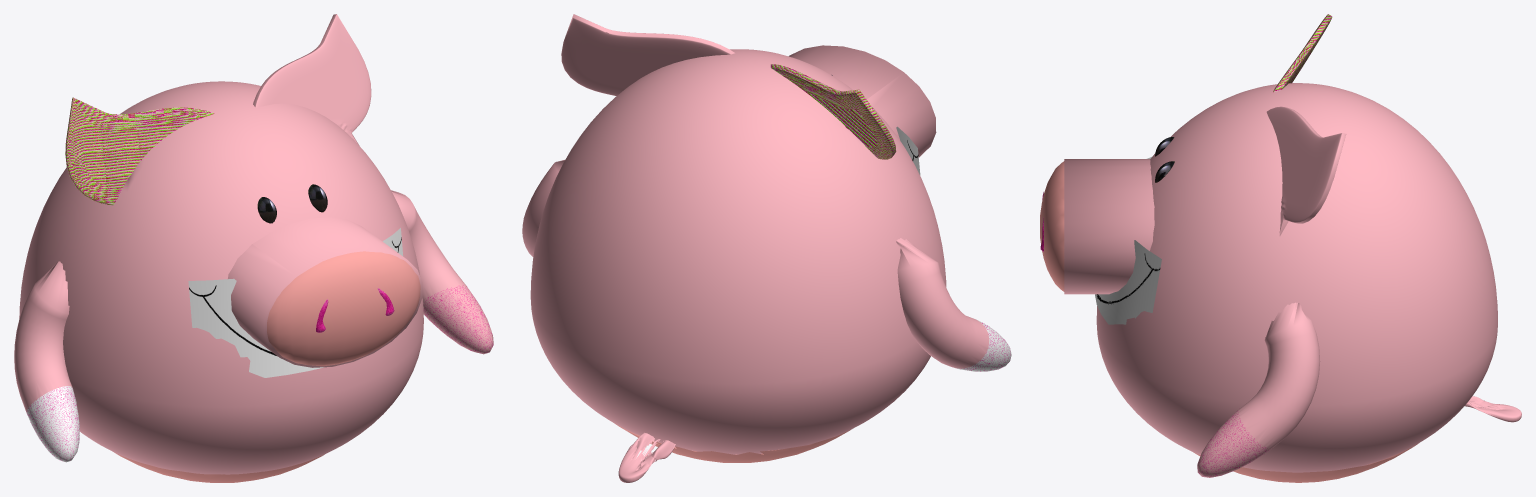
Rendered from pinkpig.dae.
3 renders of one model, left to right at view 1: azimuth 30°, elevation 25°; view 2: azimuth 150°, elevation 25°; view 3: azimuth 270°, elevation 25°, orthographic. The views are drawn at different scales.
Parts seen in each view (by area): view 1: SketchUp (×10), group_0; view 2: SketchUp (×8), group_0 (×2); view 3: SketchUp (×9), group_0.
Boxes of the visible parts, <box> form: SketchUp (×10): <box>14,81,493,482</box>; group_0: <box>253,14,371,145</box>; SketchUp (×8): <box>522,45,1011,482</box>; group_0 (×2): <box>561,14,734,95</box>; SketchUp (×9): <box>1040,14,1521,482</box>; group_0: <box>1266,106,1346,235</box>.
Size of the model in its own units: 34.9 by 32.78 by 29.86.
11 materials, 6 textured.
